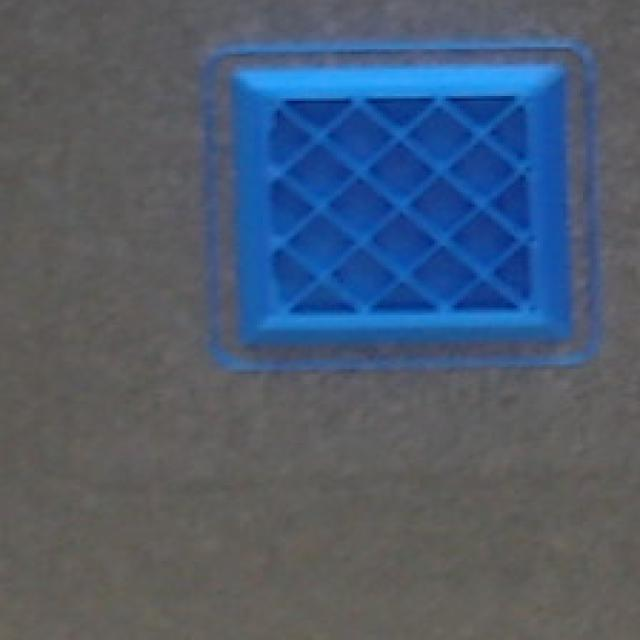noMistake: (206, 42, 597, 369)
